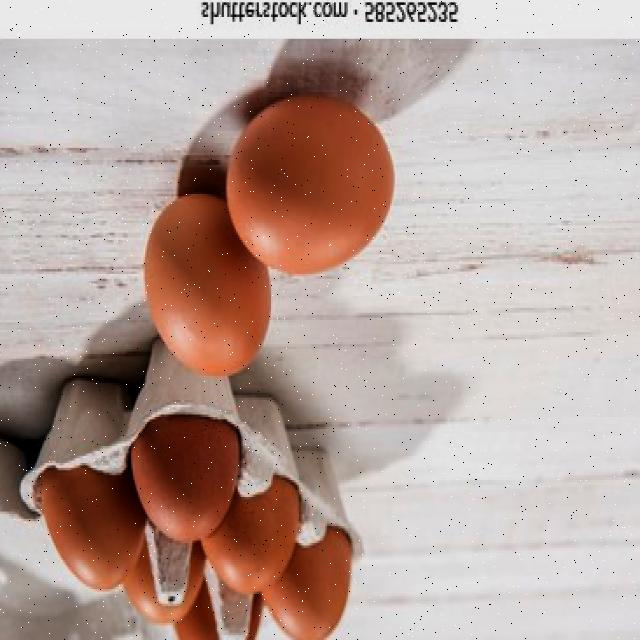Brown Egg: (222, 95, 402, 281), (153, 196, 281, 375), (52, 426, 148, 596), (129, 409, 244, 546), (205, 475, 308, 609), (262, 521, 357, 640), (124, 525, 208, 635), (177, 582, 264, 640)
